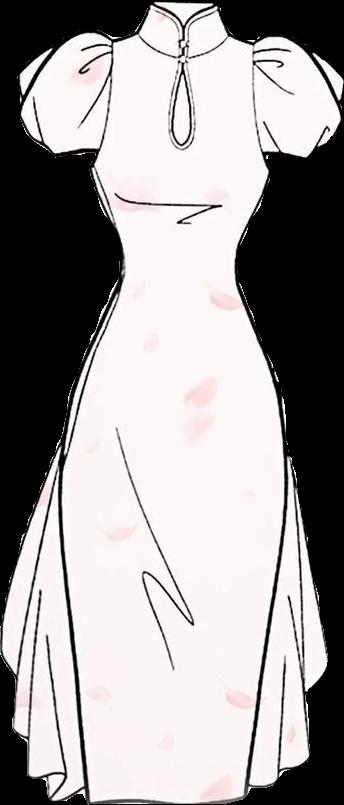Bodice: (90, 2, 269, 266)
Hemline: (0, 643, 82, 802), (248, 651, 334, 793)
Neckline: (151, 3, 216, 148)
Skirt: (1, 267, 327, 804)
Sleeve: (19, 33, 109, 157), (255, 36, 342, 157)
Sleeveline: (88, 35, 114, 154), (252, 39, 271, 154)
Waistline: (54, 438, 291, 804)
